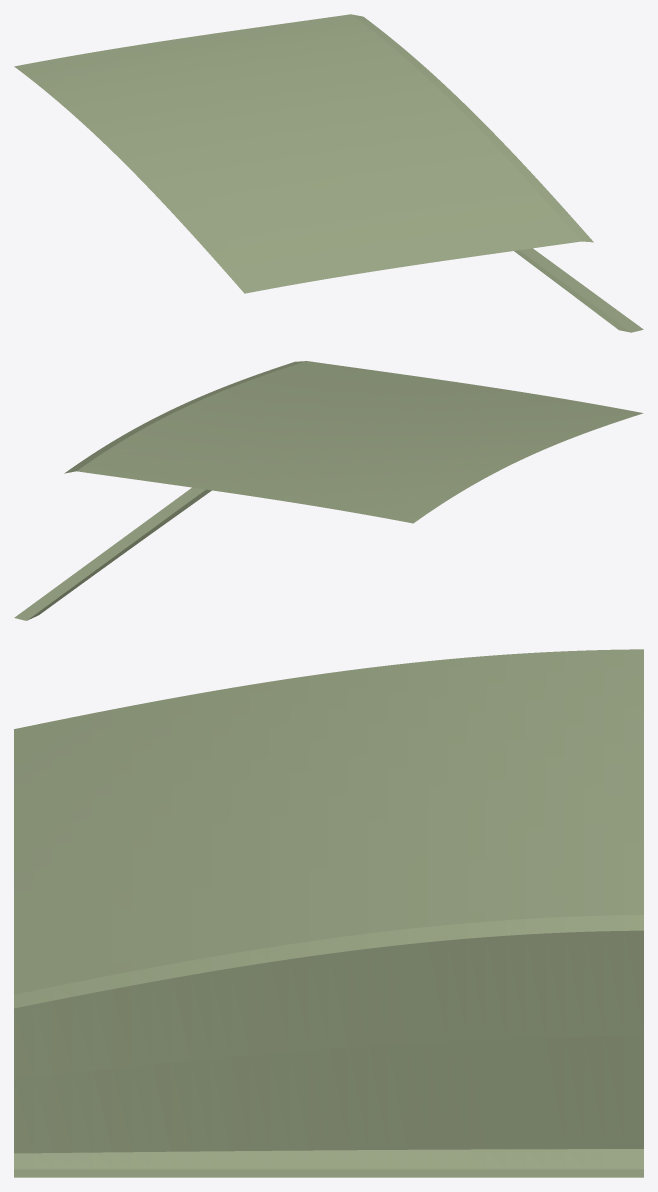
Rendered from valley-7-1.glb.
3 views of the same model, one above another, from view 1: azimuth 30°, elevation 25°; view 2: azimuth 150°, elevation 25°; view 3: azimuth 270°, elevation 25° (orthographic). The views are drawn at different scales.
Visible parts, largest first — view 1: valley-7-1; view 2: valley-7-1; view 3: valley-7-1.
Part boxes in pixels (x1,y1,x2,y2): valley-7-1: [14, 14, 643, 332]; valley-7-1: [14, 361, 643, 620]; valley-7-1: [14, 649, 643, 1177].
Size of the model in its own units: 256 by 118 by 256.
